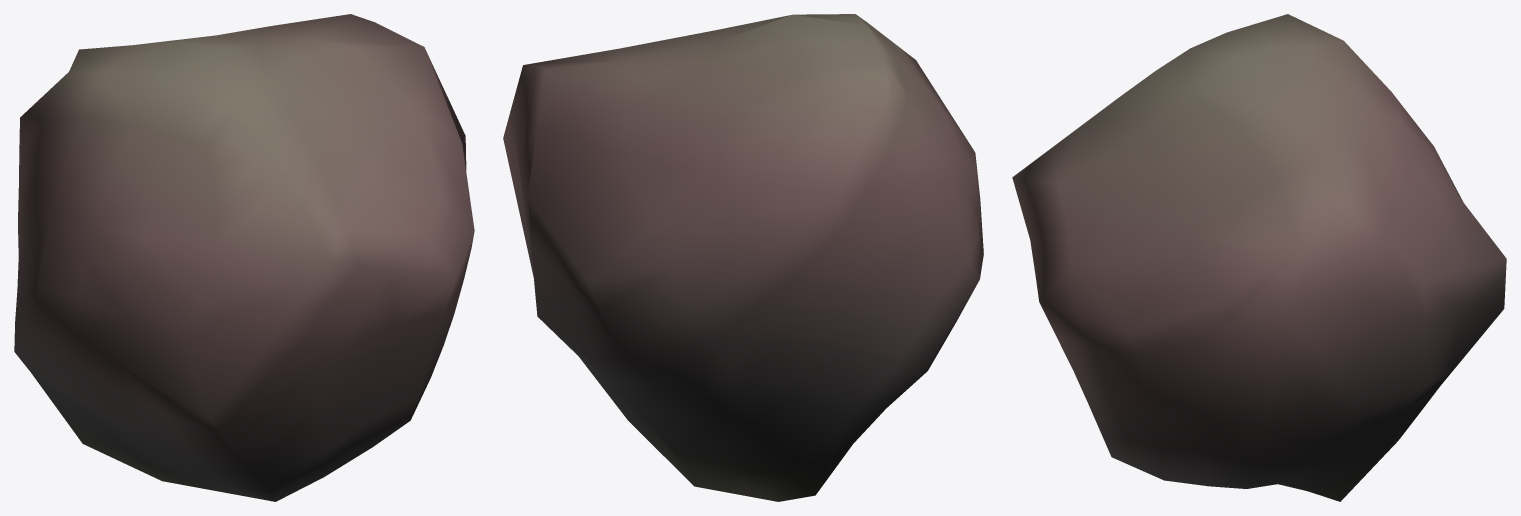
File: SM_Prop_Stone_01.fbx
3 renders of one model, left to right at view 1: azimuth 30°, elevation 25°; view 2: azimuth 150°, elevation 25°; view 3: azimuth 270°, elevation 25°, orthographic. The views are drawn at different scales.
Parts seen in each view (by area): view 1: pasted__stone_PH; view 2: pasted__stone_PH; view 3: pasted__stone_PH.
Boxes of the visible parts, x1,y1,x2,y2 form: pasted__stone_PH: (14, 14, 474, 501); pasted__stone_PH: (503, 14, 983, 501); pasted__stone_PH: (1012, 14, 1506, 501).
Size of what is drawn, in the model's own units: 161 by 154 by 159.
